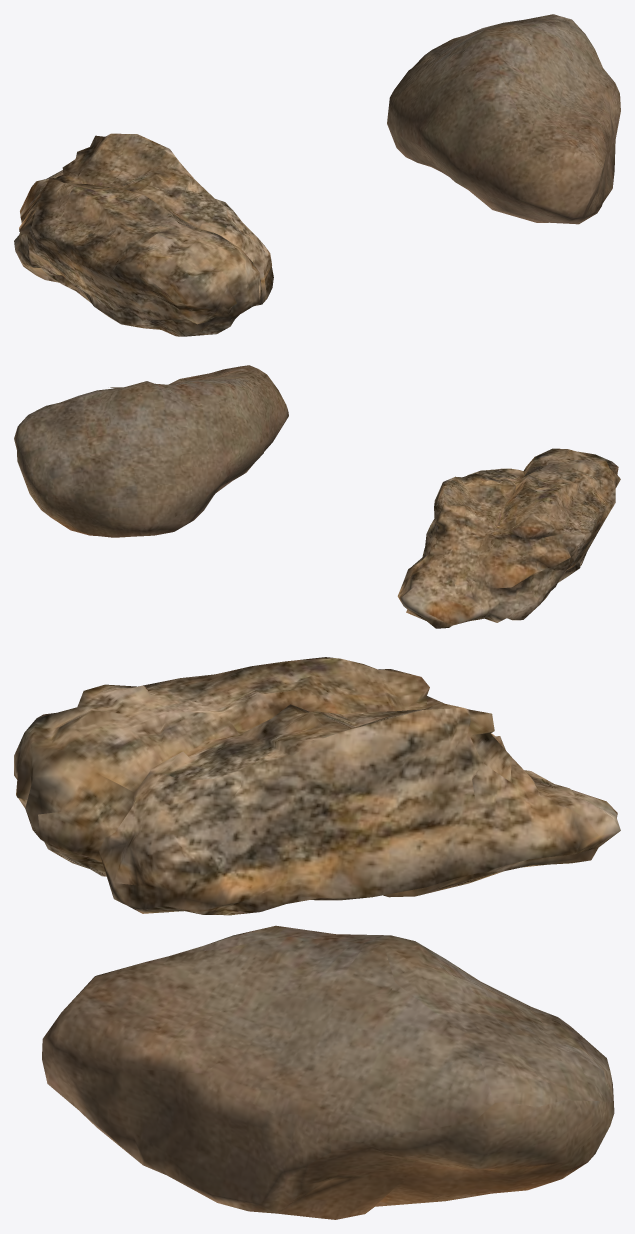
The model's file is boulders.glb.
3 renders of one model, top to bottom at view 1: azimuth 30°, elevation 25°; view 2: azimuth 150°, elevation 25°; view 3: azimuth 270°, elevation 25°, orthographic. The views are drawn at different scales.
Visible parts, largest first — view 1: namaqualand_rocks_01_a, namaqualand_rocks_01_b; view 2: namaqualand_rocks_01_a, namaqualand_rocks_01_b; view 3: namaqualand_rocks_01_a, namaqualand_rocks_01_b.
Part boxes in pixels (x1,y1,x2,y2): namaqualand_rocks_01_a: (387, 14, 620, 224); namaqualand_rocks_01_b: (14, 133, 273, 336); namaqualand_rocks_01_a: (14, 365, 288, 537); namaqualand_rocks_01_b: (397, 448, 620, 628); namaqualand_rocks_01_a: (42, 925, 614, 1219); namaqualand_rocks_01_b: (14, 657, 620, 915).
Bounding box in the file's own units: 1.06 × 0.2494 × 0.5838.
Materials: 1 (1 with a texture image).
